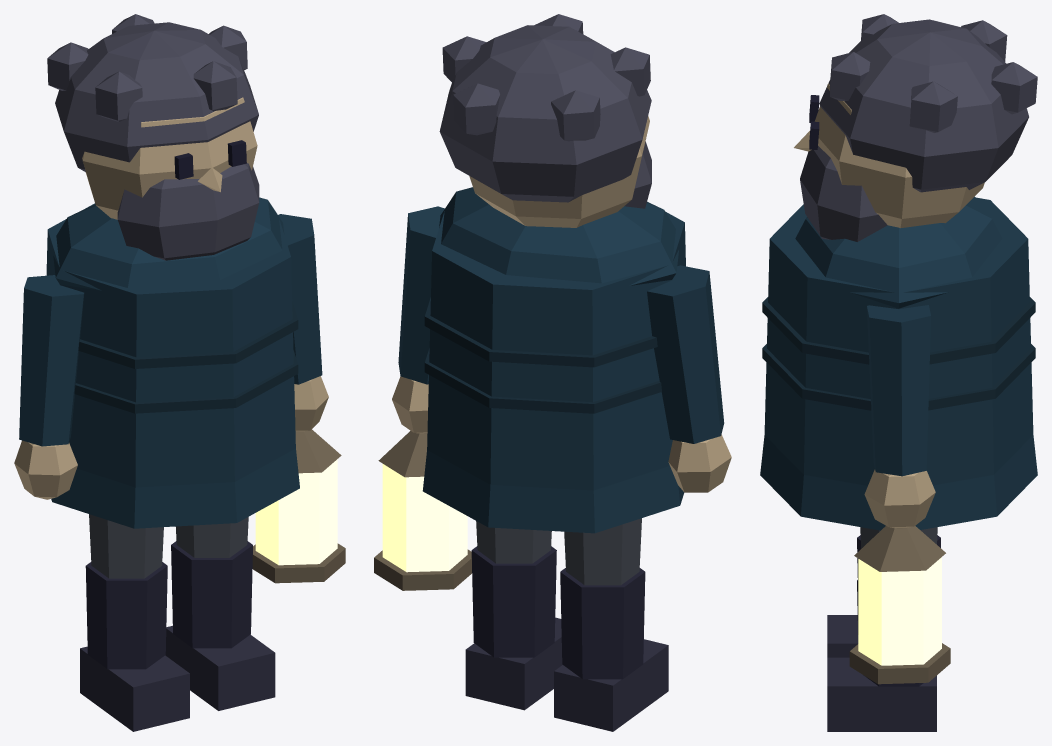
The model's file is dunstan_lantern.glb.
3 views of the same model, side by side, from view 1: azimuth 30°, elevation 25°; view 2: azimuth 150°, elevation 25°; view 3: azimuth 270°, elevation 25° (orthographic). The views are drawn at different scales.
Parts seen in each view (by area): view 1: Torso, Head, LegR, LegL, ArmL, ArmR; view 2: Torso, Head, LegR, ArmL, LegL, ArmR; view 3: Torso, Head, ArmL, LegL, LegR.
Boxes of the visible parts, x1,y1,x2,y2 form: Torso: [46, 197, 299, 528]; Head: [47, 14, 259, 260]; LegR: [80, 514, 189, 731]; LegL: [165, 517, 275, 710]; ArmL: [252, 214, 345, 583]; ArmR: [14, 275, 84, 499]; Torso: [422, 187, 685, 533]; Head: [439, 14, 651, 227]; LegR: [554, 518, 668, 731]; ArmL: [374, 206, 471, 590]; LegL: [465, 521, 562, 710]; ArmR: [647, 265, 731, 492]; Torso: [760, 196, 1037, 530]; Head: [794, 14, 1037, 241]; ArmL: [849, 305, 950, 684]; LegL: [827, 527, 937, 731]; LegR: [827, 535, 940, 657].
Bounding box in the file's own units: 0.9733 × 1.88 × 0.7128.
